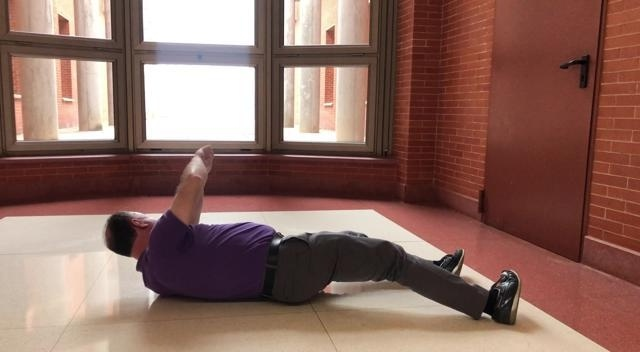fall: (77, 140, 549, 328)
